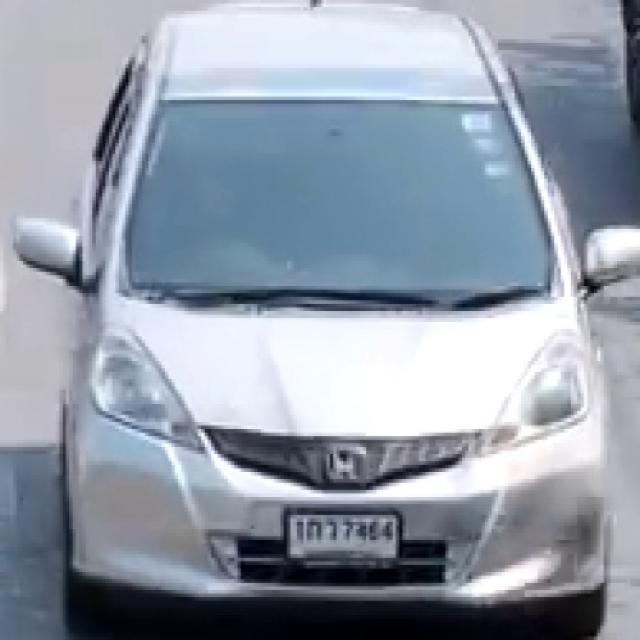plate: (282, 506, 400, 568)
